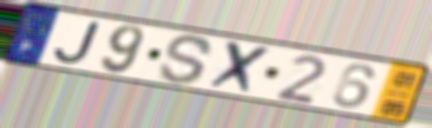2: (274, 53, 330, 107)
6: (331, 63, 379, 111)
9: (97, 24, 150, 76)
J: (51, 19, 103, 66)
S: (156, 33, 216, 88)
X: (203, 38, 275, 98)
